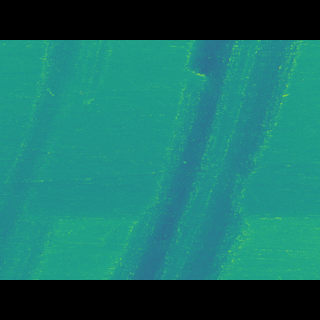Loch: (109, 69, 306, 249), (0, 69, 112, 250)
